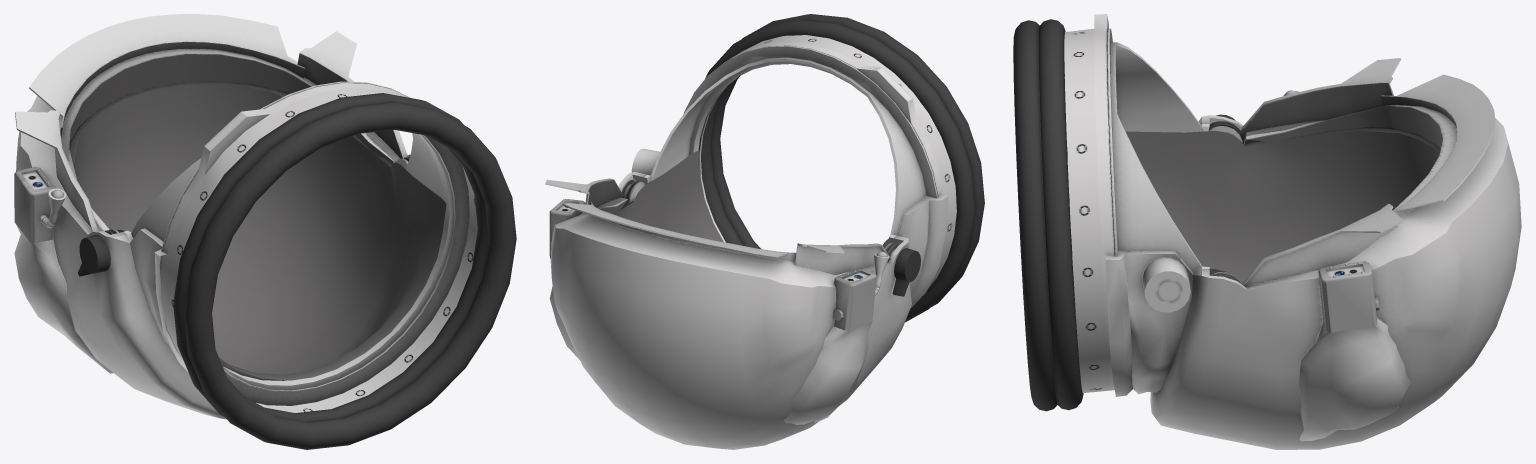
The model's file is Helmet GlassLess.fbx.
3 views of the same model, side by side, from view 1: azimuth 30°, elevation 25°; view 2: azimuth 150°, elevation 25°; view 3: azimuth 270°, elevation 25° (orthographic). The views are drawn at different scales.
Parts seen in each view (by area): view 1: Helmet-Body; view 2: Helmet-Body; view 3: Helmet-Body.
Boxes of the visible parts, x1,y1,x2,y2 form: Helmet-Body: (14, 14, 516, 449); Helmet-Body: (545, 14, 984, 449); Helmet-Body: (1013, 14, 1521, 449).
Size of the model in its own units: 2992 by 3023 by 3524.
